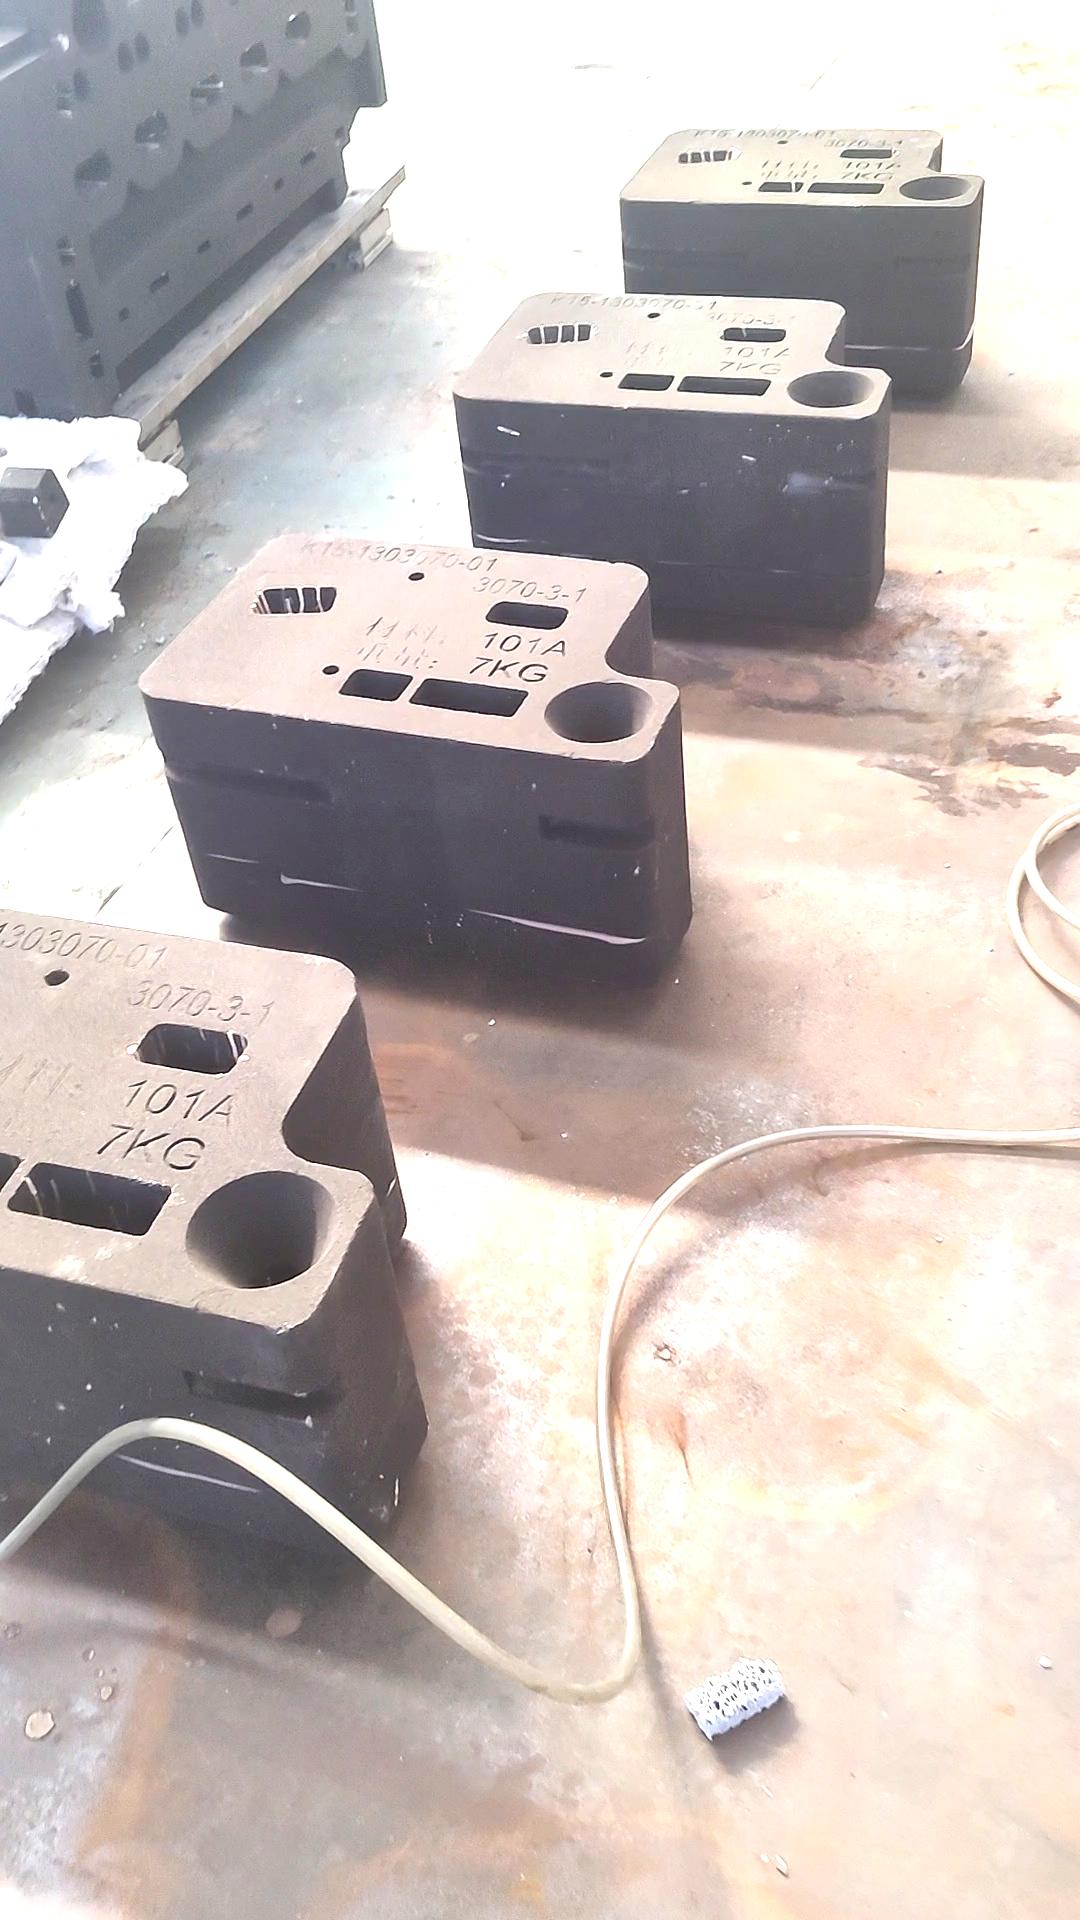pouring hole: (183, 1168, 336, 1290), (545, 680, 653, 742), (787, 371, 873, 406), (69, 1, 115, 54), (898, 175, 973, 200)
